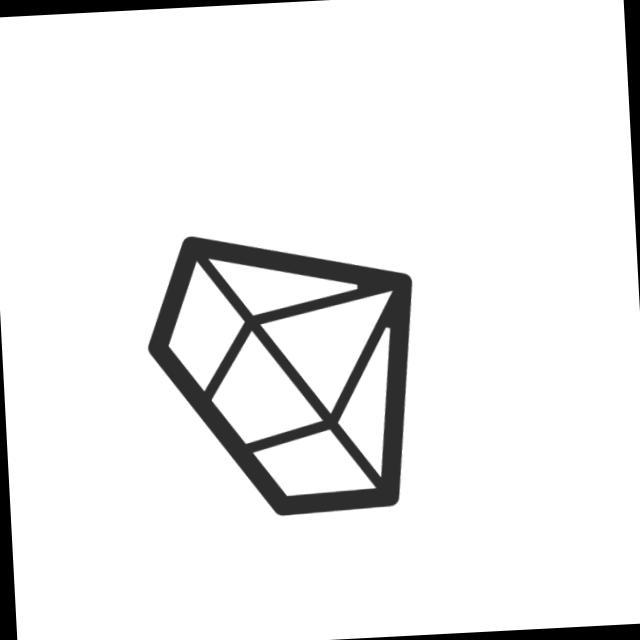diamond: (136, 219, 433, 531)
